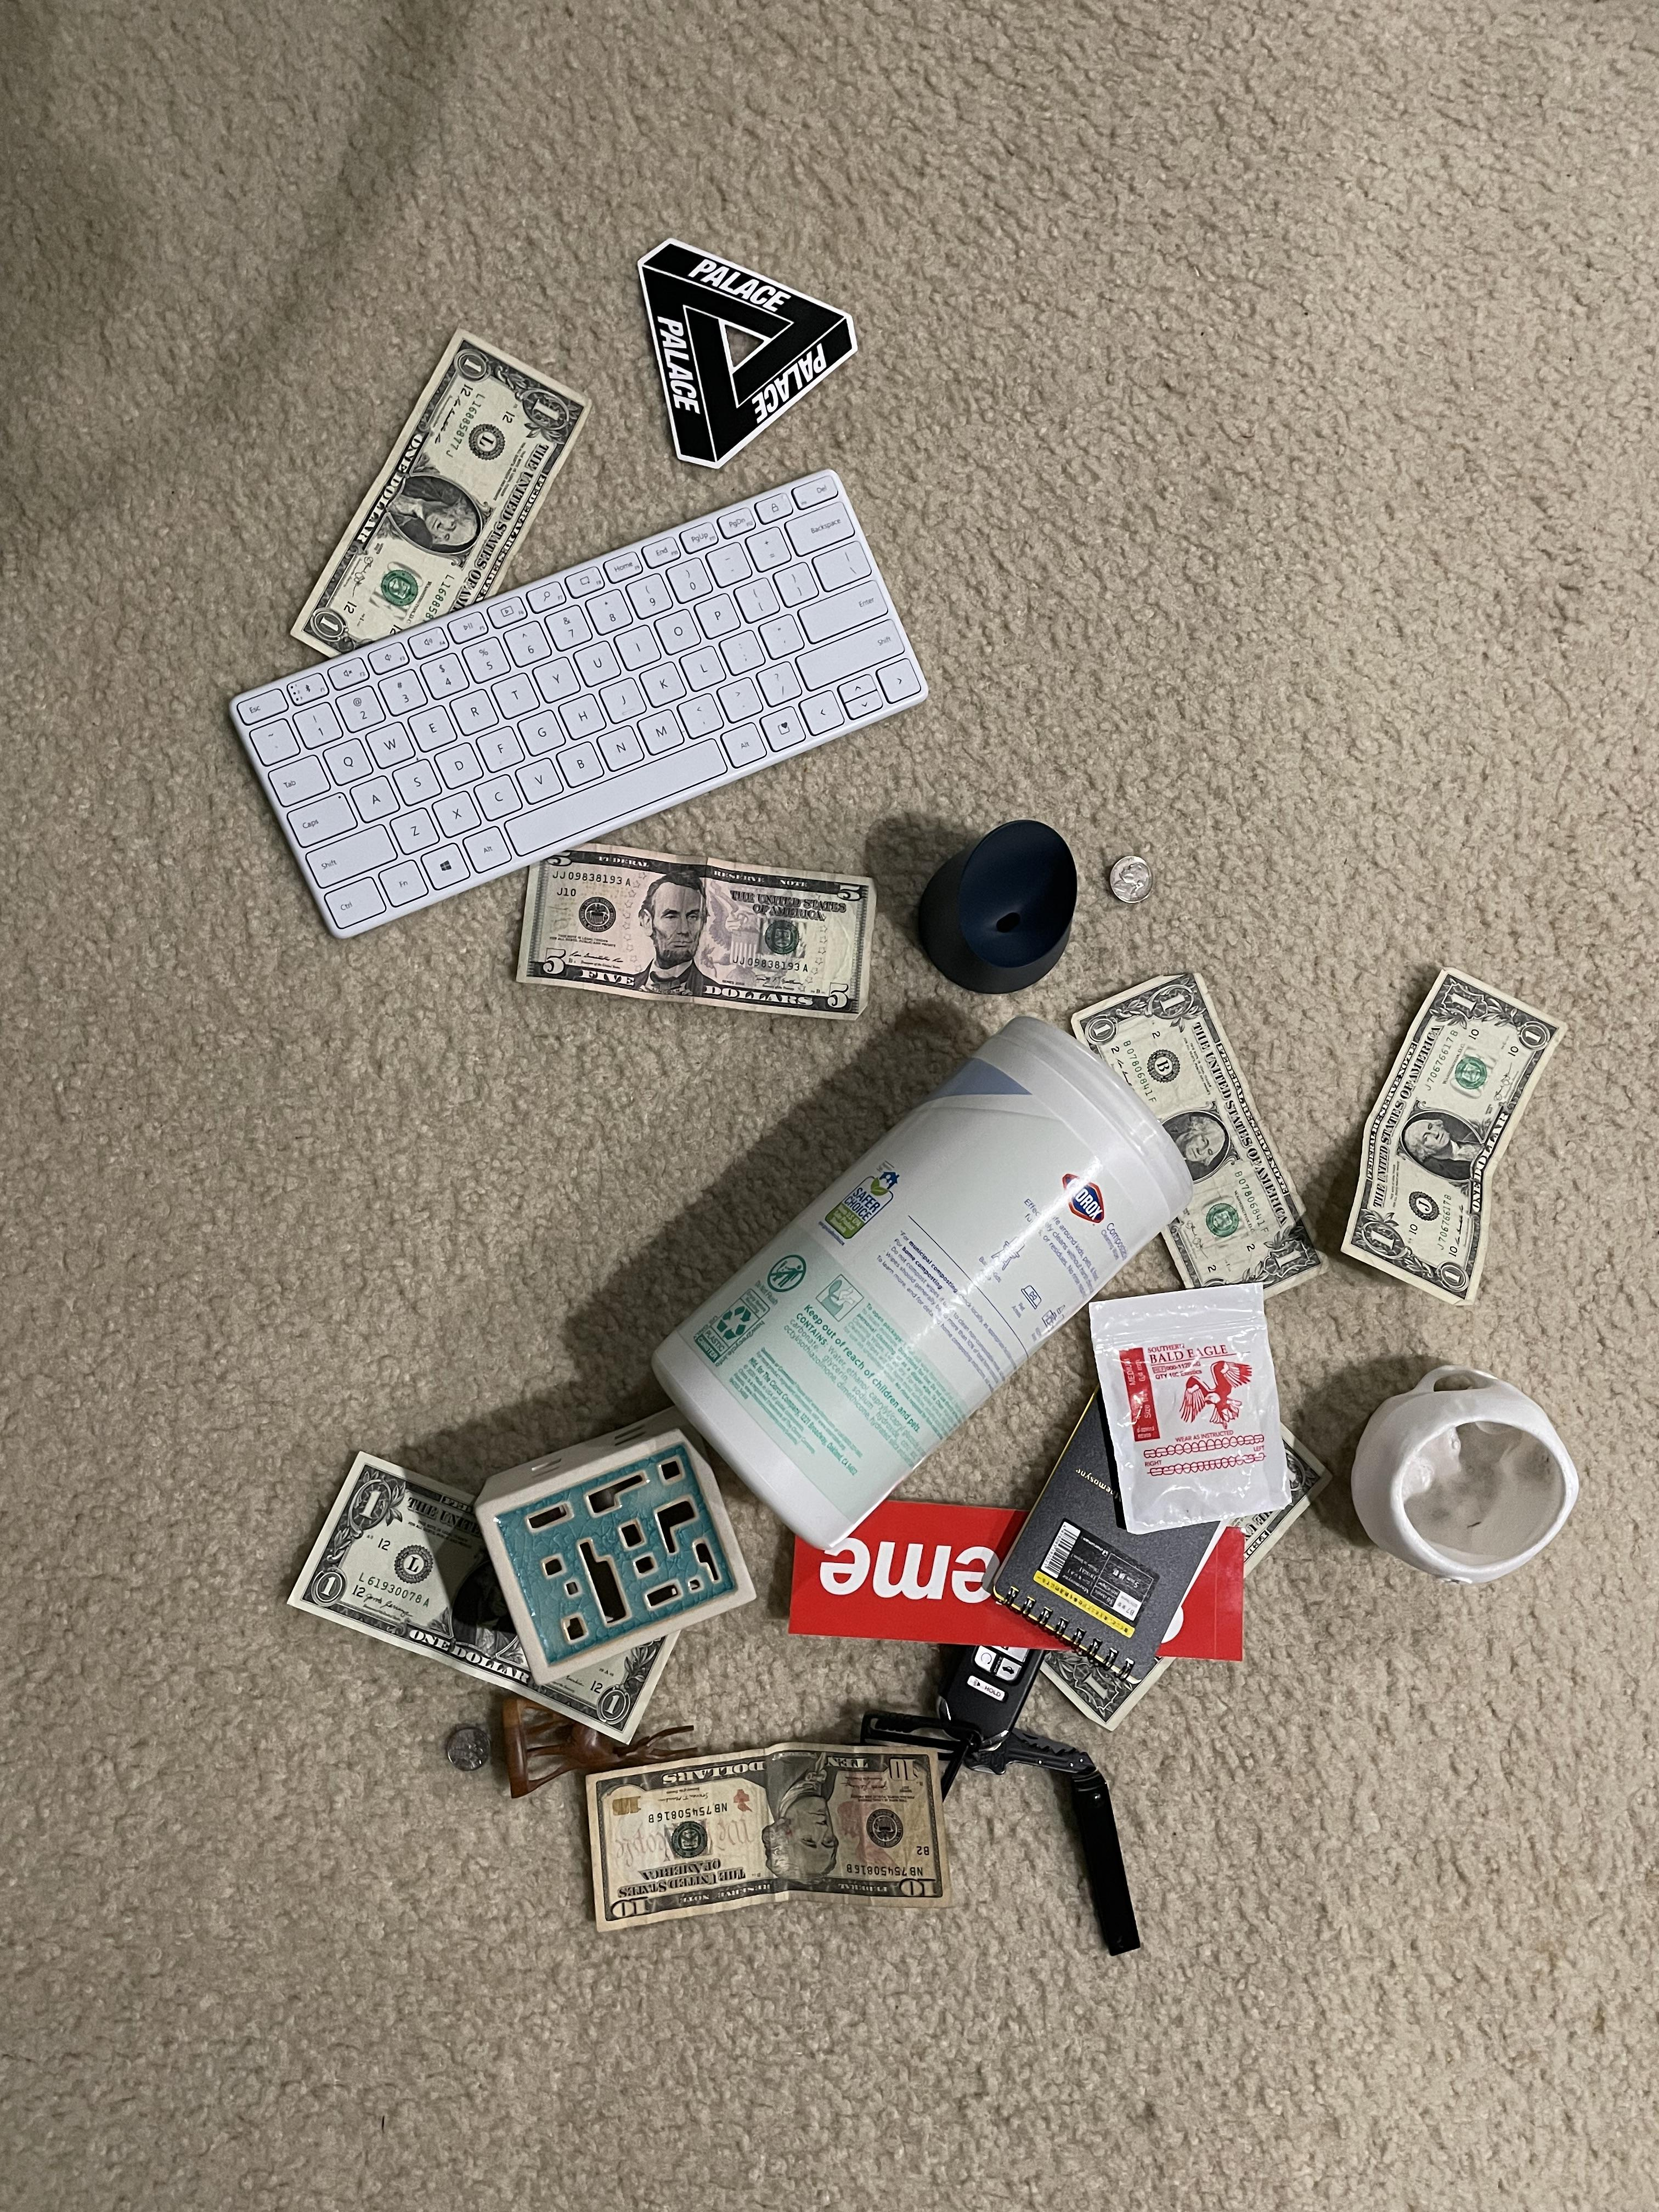Dime: (436, 1721, 491, 1780)
FiveBill: (505, 838, 880, 1028)
Nickel: (1100, 845, 1164, 907)
OneBill: (284, 1439, 697, 1740), (291, 322, 599, 700), (1072, 946, 1331, 1315), (1340, 965, 1567, 1313)
TenBill: (565, 1745, 964, 1933)
